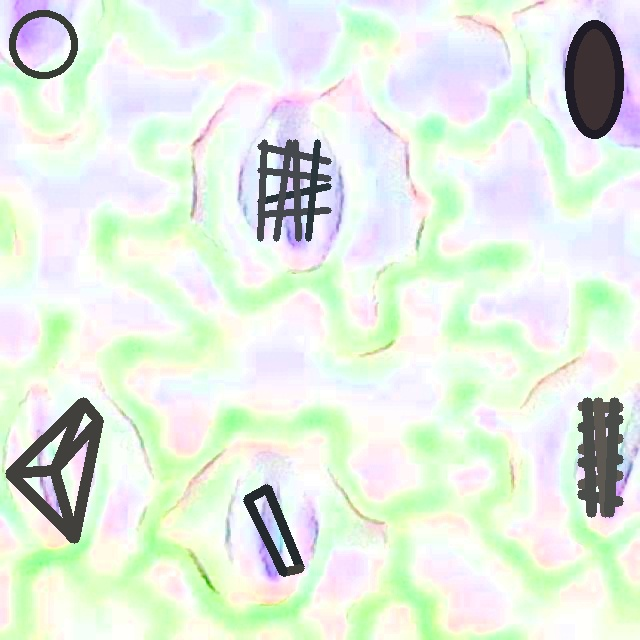open: (6, 397, 103, 542), (258, 139, 331, 240), (565, 20, 624, 138), (243, 484, 304, 576), (577, 398, 623, 517), (8, 9, 78, 78)
